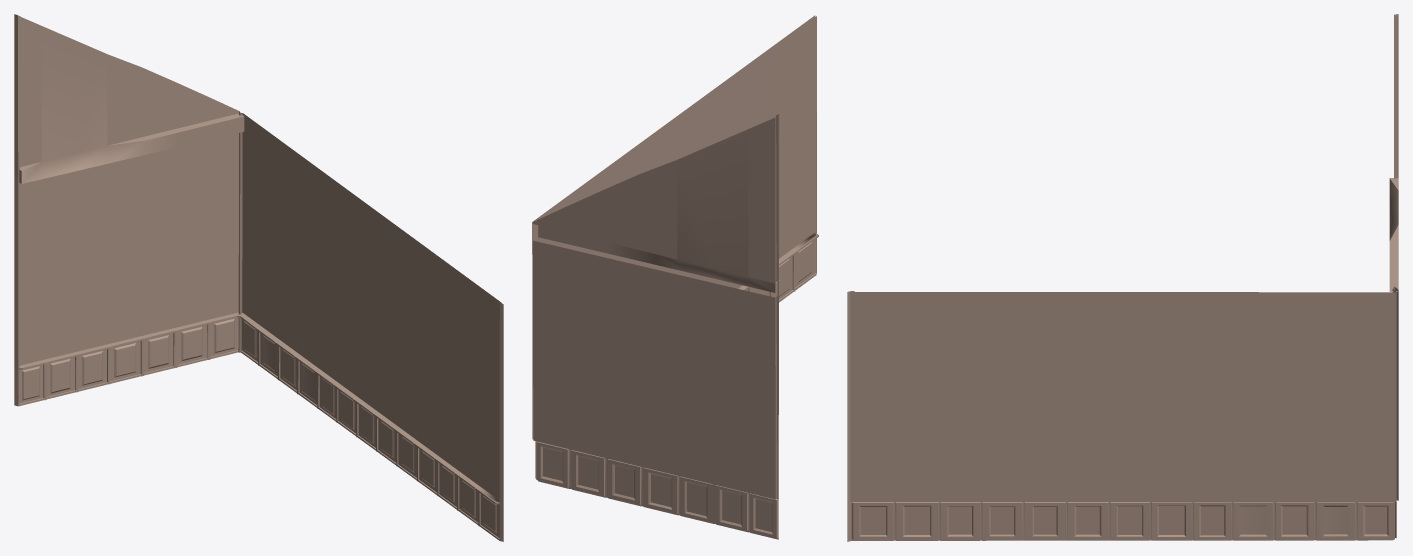
Rendered from mur_droite.fbx.
3 views of the same model, side by side, from view 1: azimuth 30°, elevation 25°; view 2: azimuth 150°, elevation 25°; view 3: azimuth 270°, elevation 25° (orthographic). The views are drawn at different scales.
Visible parts, largest first — view 1: mur_salle_droite; view 2: mur_salle_droite; view 3: mur_salle_droite.
Part boxes in pixels (<box>): mur_salle_droite: <box>14,14,503,541</box>; mur_salle_droite: <box>532,15,818,539</box>; mur_salle_droite: <box>847,14,1398,541</box>.
Bounding box in the file's own units: 200 × 329 × 400.
